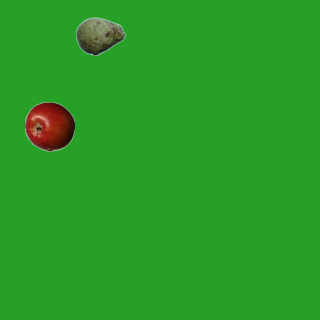Apple Braeburn: (24, 101, 74, 151)
Pear Stone: (75, 11, 125, 61)
